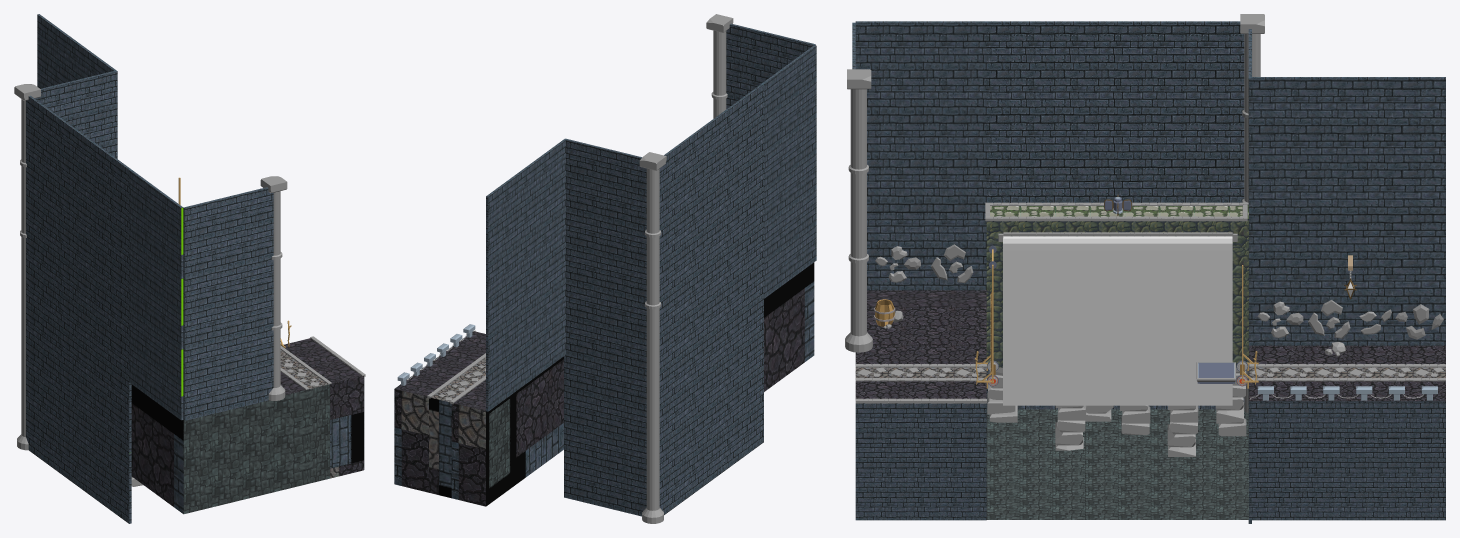
File: 4瀑布段三版.fbx
3 views of the same model, side by side, from view 1: azimuth 30°, elevation 25°; view 2: azimuth 150°, elevation 25°; view 3: azimuth 270°, elevation 25° (orthographic). The views are drawn at different scales.
Parts seen in each view (by area): view 1: Cube.354, 墙3.013, 墙3.011, 墙3.012, 墙3.007, 墙3.010, 墙2.004, 墙2.005, 墙2.006, Cube.355, 墙2.003, 墙2.001 (+6 smaller); view 2: Cube.364, 墙3.013, 墙3.011, 墙3.010, 墙3.007, 墙3.012, 墙2.010, 墙2.011, 墙3.006, 墙2.007, 墙2.009, 墙2.008 (+12 smaller); view 3: Plane.072, 水池底, 地面贴片1.004, 墙3.013, 墙3.007, 墙3.006, 墙3.008, 地面贴片1.003, 墙3.009, 墙2.003, 墙2.002, Cube.359 (+25 smaller).
Part boxes in pixels (bbox=[...]): Cube.354: bbox=[131, 372, 307, 514]; 墙3.013: bbox=[26, 95, 130, 240]; 墙3.011: bbox=[26, 307, 131, 452]; 墙3.012: bbox=[26, 378, 131, 523]; 墙3.007: bbox=[26, 166, 129, 311]; 墙3.010: bbox=[26, 237, 129, 381]; 墙2.004: bbox=[183, 187, 273, 279]; 墙2.005: bbox=[183, 258, 273, 349]; 墙2.006: bbox=[183, 329, 273, 420]; Cube.355: bbox=[283, 338, 363, 478]; 墙2.003: bbox=[129, 169, 183, 278]; 墙2.001: bbox=[129, 312, 183, 420]; Cube.364: bbox=[451, 356, 563, 506]; 墙3.013: bbox=[659, 83, 763, 230]; 墙3.011: bbox=[659, 299, 763, 446]; 墙3.010: bbox=[659, 227, 763, 374]; 墙3.007: bbox=[659, 156, 763, 302]; 墙3.012: bbox=[659, 371, 763, 514]; 墙2.010: bbox=[564, 355, 646, 445]; 墙2.011: bbox=[564, 426, 646, 516]; 墙3.006: bbox=[486, 139, 565, 268]; 墙2.007: bbox=[564, 138, 646, 230]; 墙2.009: bbox=[566, 283, 646, 374]; 墙2.008: bbox=[566, 211, 646, 302]; Plane.072: bbox=[1003, 250, 1232, 405]; 水池底: bbox=[986, 409, 1248, 519]; 地面贴片1.004: bbox=[1249, 401, 1445, 520]; 墙3.013: bbox=[986, 21, 1244, 111]; 墙3.007: bbox=[986, 112, 1244, 200]; 墙3.006: bbox=[1249, 77, 1445, 167]; 墙3.008: bbox=[1249, 167, 1445, 256]; 地面贴片1.003: bbox=[855, 403, 986, 520]; 墙3.009: bbox=[1249, 256, 1445, 345]; 墙2.003: bbox=[855, 21, 986, 111]; 墙2.002: bbox=[867, 112, 986, 200]; Cube.359: bbox=[986, 205, 1248, 367].
Bounding box in the file's own units: 1683 × 3032 × 3665.
